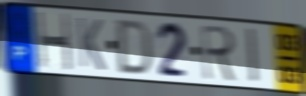2: (156, 19, 191, 81)
D: (115, 18, 154, 77)
H: (34, 11, 74, 73)
I: (245, 26, 261, 85)
K: (75, 15, 107, 73)
R: (200, 23, 240, 84)
